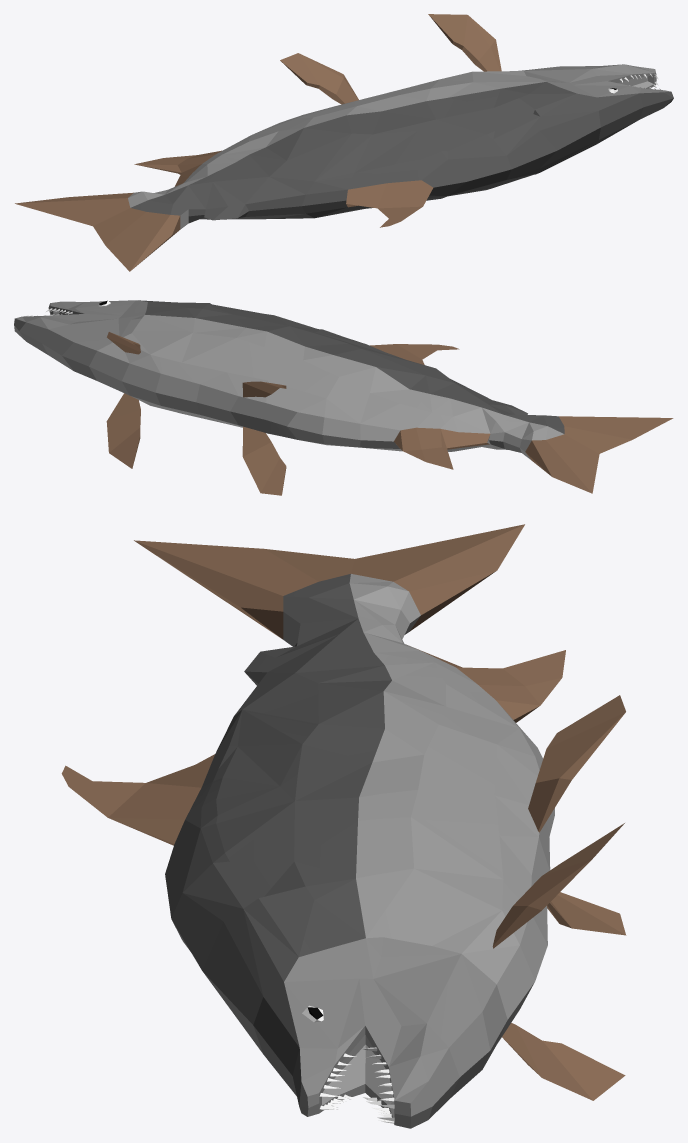
The model's file is Tigerfish.glb.
The picture shows the model from 3 angles, top to bottom: view 1: azimuth 30°, elevation 25°; view 2: azimuth 150°, elevation 25°; view 3: azimuth 270°, elevation 25°; orthographic projection. The views are drawn at different scales.
Visible parts, largest first — view 1: Tigerfish; view 2: Tigerfish; view 3: Tigerfish.
Boxes of the visible parts, x1,y1,x2,y2 form: Tigerfish: (15,14,673,271); Tigerfish: (14,300,673,495); Tigerfish: (61,524,626,1128).
Bounding box in the file's own units: 1.04 × 0.2072 × 0.4189.
1 material, 1 textured.
